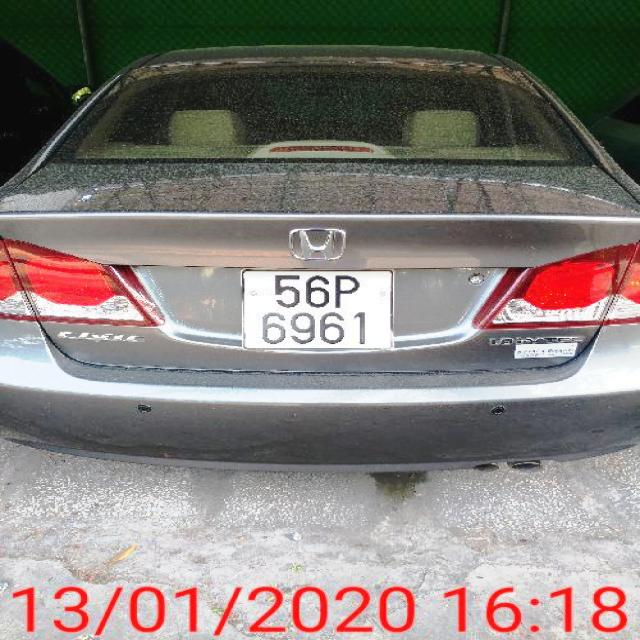license_plate: (241, 268, 392, 350)
